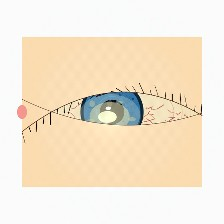corneal_ulcer: (77, 91, 142, 143)
